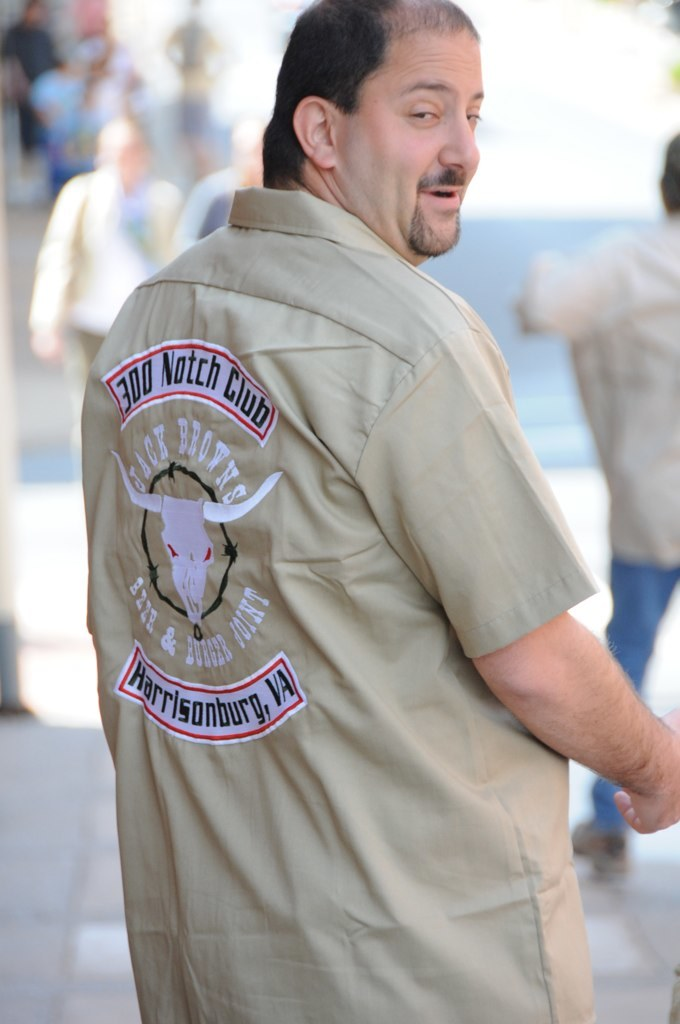Human_hand: (504, 562, 654, 809)
